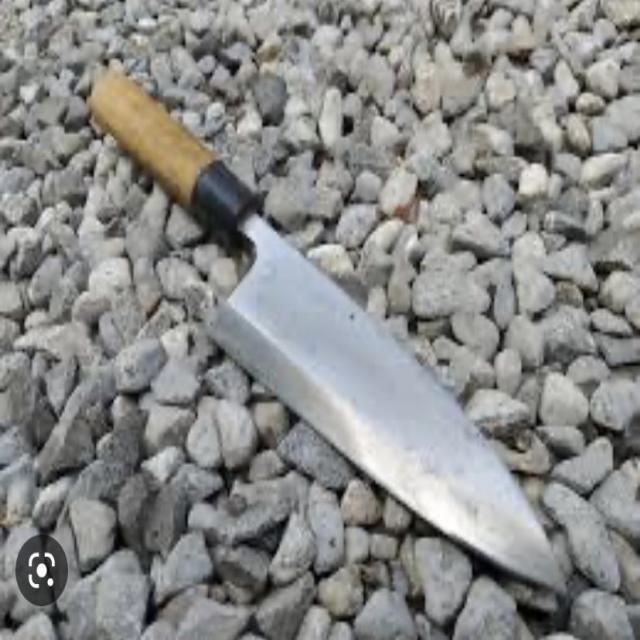Knife: (83, 67, 570, 594)
